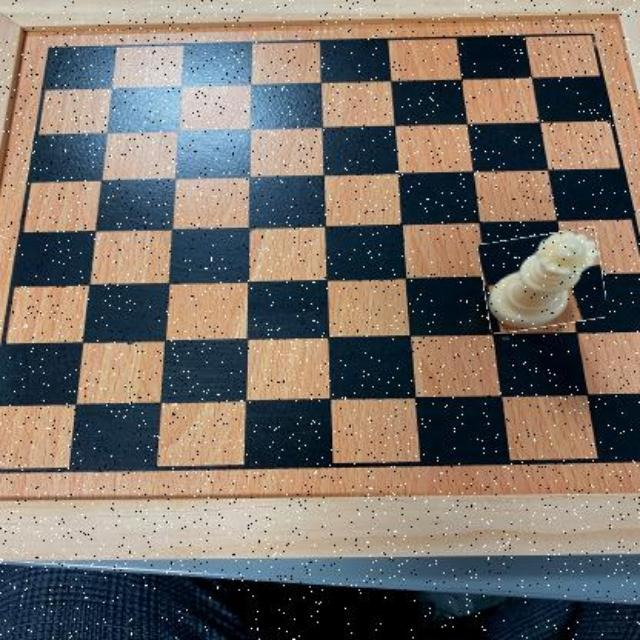white-queen: (480, 232, 604, 330)
